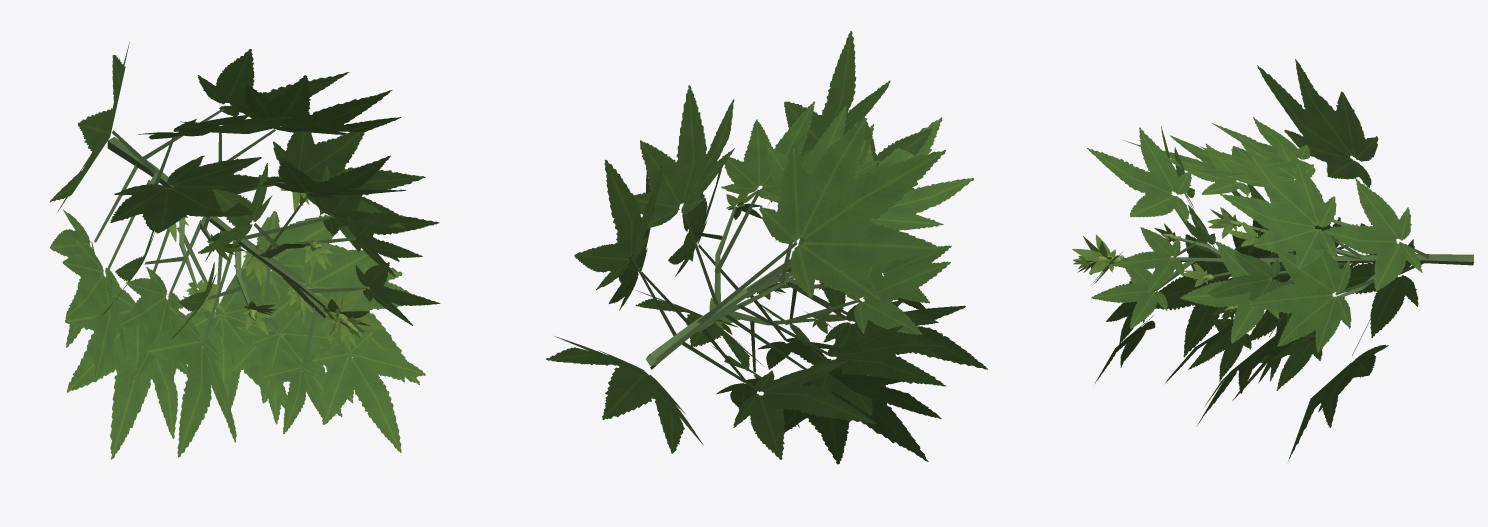
File: p_hybrid_preflower_c0_cards.obj
The picture shows the model from 3 angles, left to right: view 1: azimuth 30°, elevation 25°; view 2: azimuth 150°, elevation 25°; view 3: azimuth 270°, elevation 25°; orthographic projection. The views are drawn at different scales.
Size of the model in its own units: 1.28 by 1.25 by 1.16.
1 material, 1 textured.
